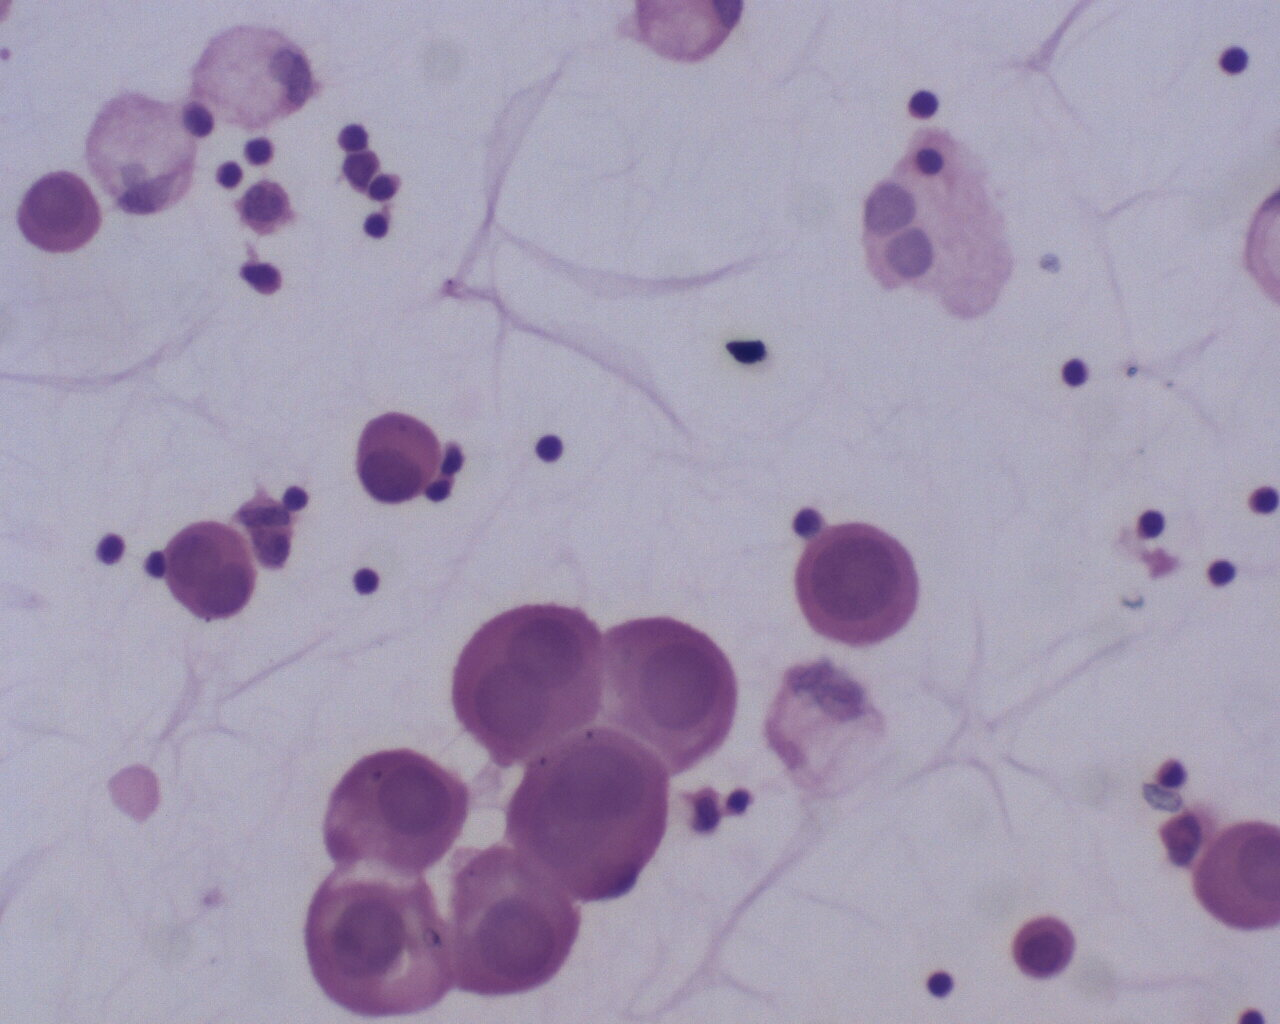ab: (448, 599, 607, 763), (302, 862, 452, 1020), (449, 847, 581, 1000), (318, 746, 469, 868), (793, 517, 917, 650), (162, 517, 260, 626), (354, 408, 450, 508), (16, 168, 102, 259)
histo: (199, 16, 322, 134)
lymph: (84, 523, 138, 575), (899, 83, 942, 127), (349, 558, 391, 600), (1132, 503, 1170, 545), (1060, 352, 1094, 396), (533, 428, 571, 467), (927, 967, 955, 1000)
